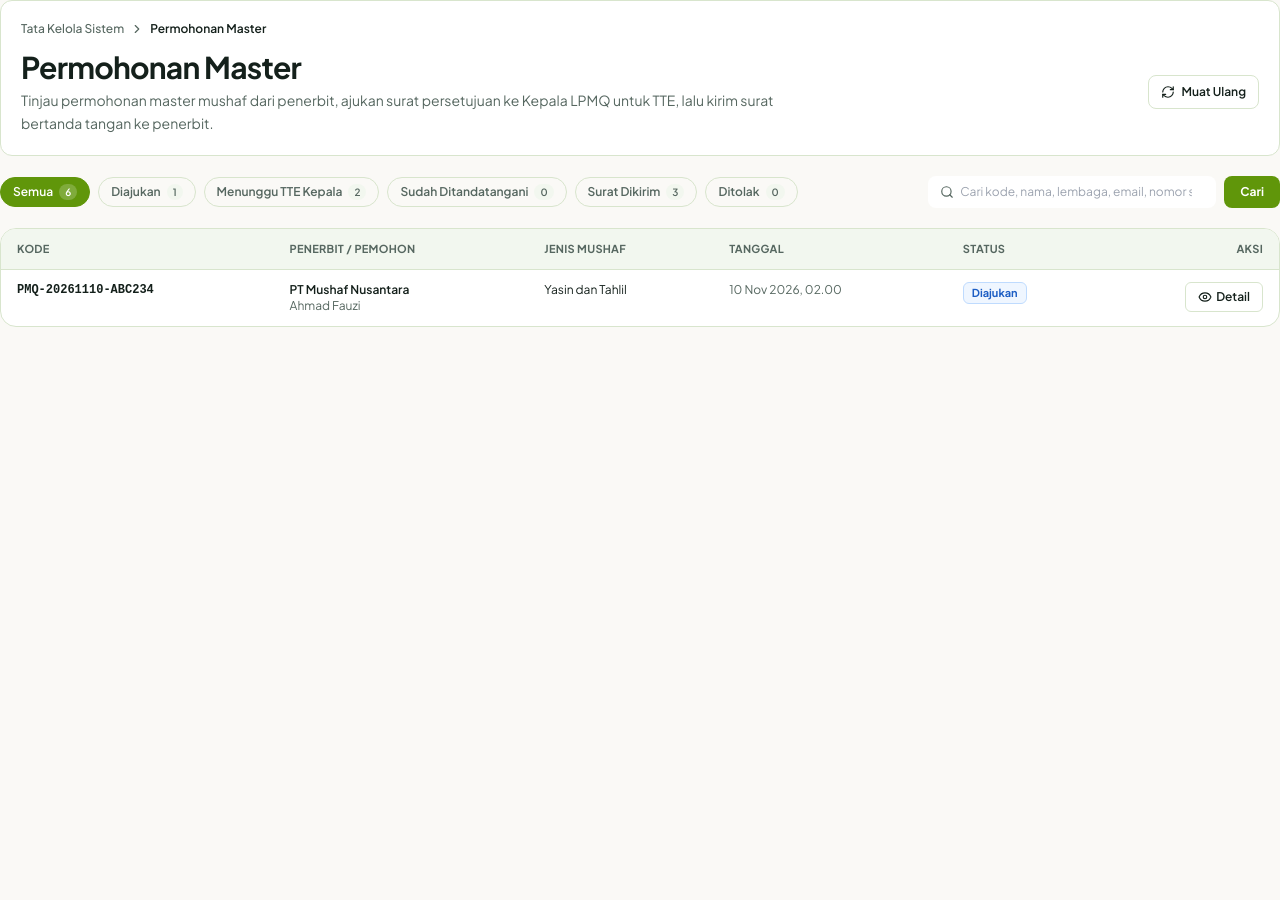
Test: AdminMasterRequestsPage › penolakan wajib beralasan
Later steps or results of the test are not shown.
Step 1. Click the button with aria-label "Lihat detail permohonan PMQ-20261110-ABC234" → (1224, 296), box [1185,282,1263,312]
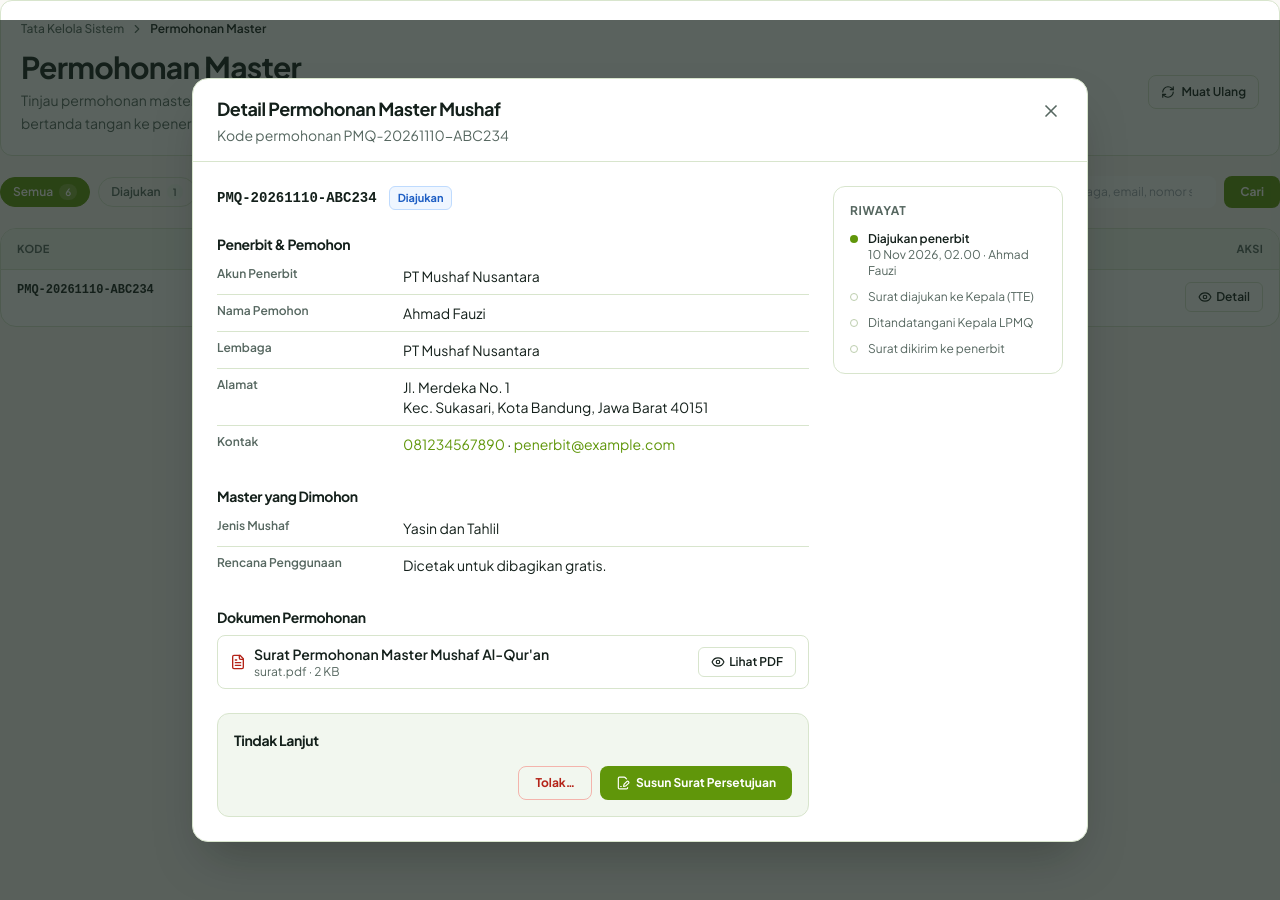
Check: the link "penerbit@example.com" is shown, box [514,435,675,453]
